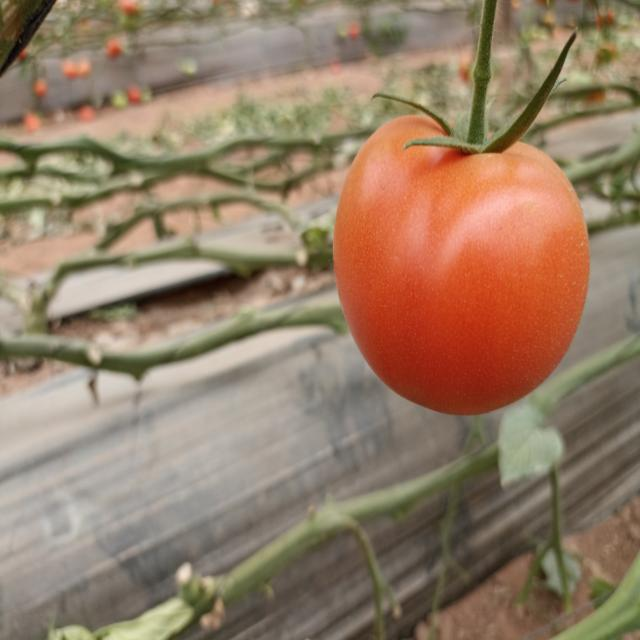Ripe Tomato: (334, 117, 589, 411)
